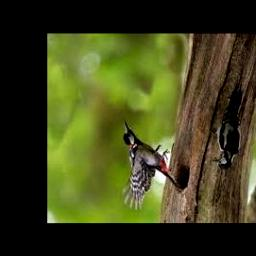Woodpecker: (123, 123, 178, 210), (211, 86, 242, 170)
